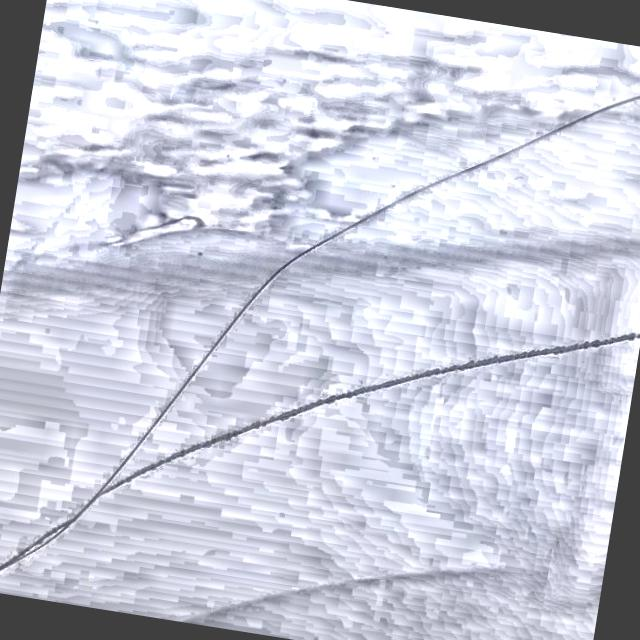crack: (230, 16, 566, 403), (189, 268, 551, 502)
